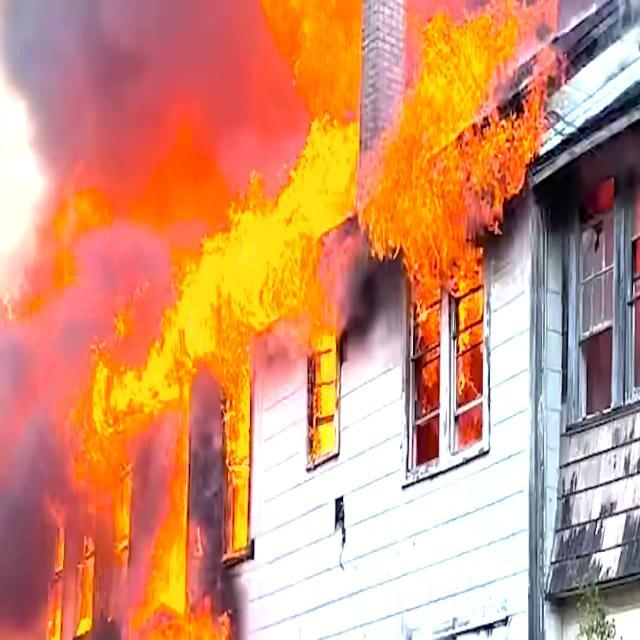Fire: (398, 27, 494, 445), (109, 312, 191, 640), (282, 124, 351, 443), (208, 267, 272, 565), (290, 0, 352, 105)
Smoke: (20, 1, 258, 218), (0, 263, 66, 622)
